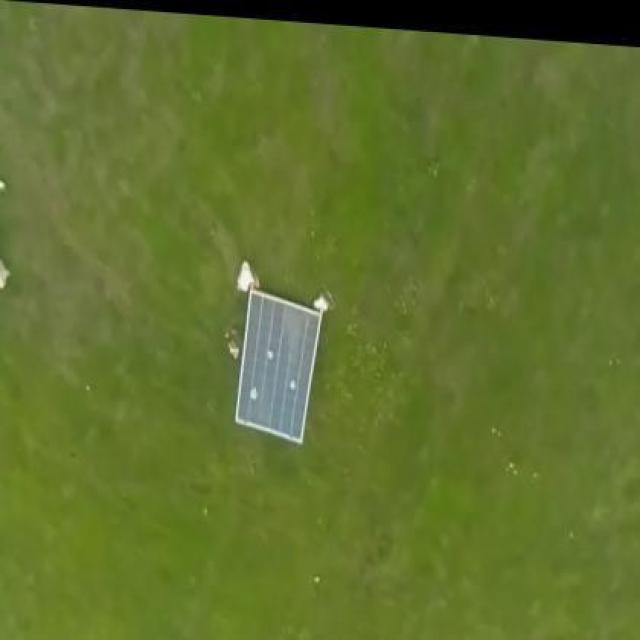soiled: (228, 289, 324, 446)
